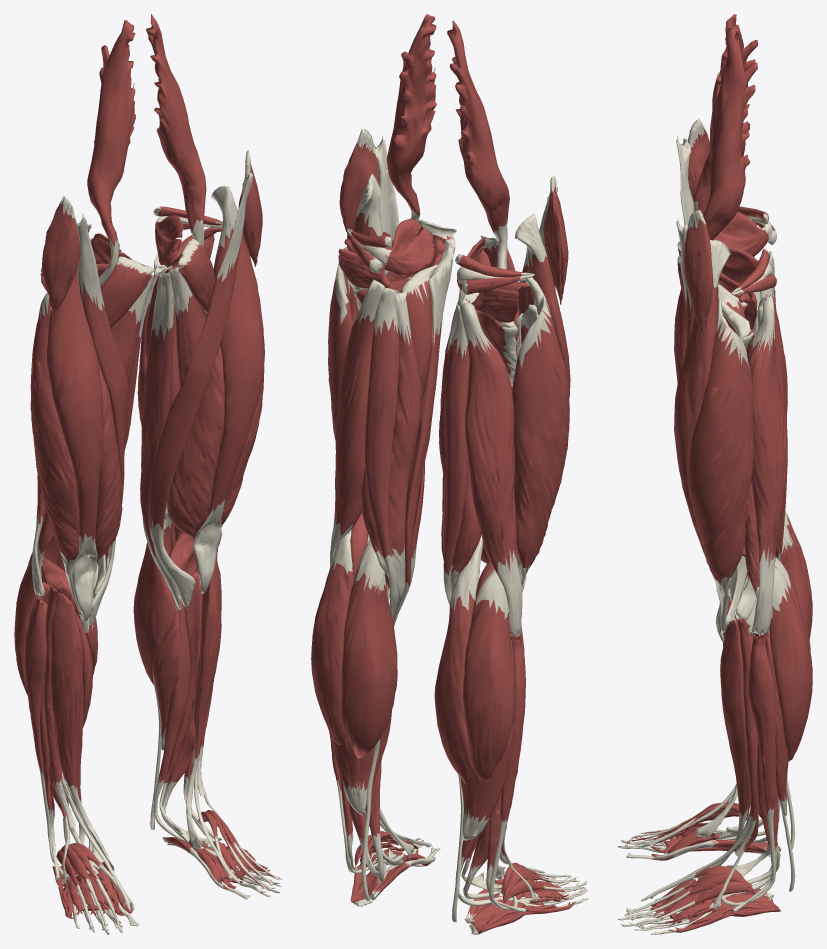
Rendered from muscular-lower-limb-balanced.glb.
3 renders of one model, left to right at view 1: azimuth 30°, elevation 25°; view 2: azimuth 150°, elevation 25°; view 3: azimuth 270°, elevation 25°, orthographic. The views are drawn at different scales.
Visible parts, largest first — view 1: za.rectus-femoris-muscle-r, za.rectus-femoris-muscle-l, za.sartorius-muscle-l, za.vastus-lateralis-muscle-r, za.psoas-major-r, za.vastus-medialis-muscle-l, za.gracilis-muscle-l, za.tibialis-anterior-muscle-r, za.psoas-major-l, za.sartorius-muscle-r, za.medial-head-of-gastrocnemius-l, za.tibialis-anterior-muscle-l (+31 smaller); view 2: za.vastus-lateralis-muscle-r, za.long-head-of-biceps-femoris-r, za.medial-head-of-gastrocnemius-l, za.lateral-head-of-gastrocnemius-r, za.semitendinosus-muscle-l, za.long-head-of-biceps-femoris-l, za.semimembranosus-muscle-l, za.psoas-major-l, za.psoas-major-r, za.medial-head-of-gastrocnemius-r, za.lateral-head-of-gastrocnemius-l, za.semitendinosus-muscle-r (+30 smaller); view 3: za.vastus-lateralis-muscle-l, za.long-head-of-biceps-femoris-l, za.psoas-major-l, za.lateral-head-of-gastrocnemius-l, za.rectus-femoris-muscle-l, za.fibularis-longus-muscle-l, za.tibialis-anterior-muscle-l, za.tensor-fasciae-latae-l, za.extensor-digitorum-longus-l, za.extensor-digitorum-brevis-l, za.psoas-major-r, za.obturator-internus-r (+25 smaller).
Part boxes in pixels (x1,y1,x2,y2): za.rectus-femoris-muscle-r: (46, 266, 103, 622); za.rectus-femoris-muscle-l: (193, 185, 264, 593); za.sartorius-muscle-l: (149, 172, 252, 608); za.vastus-lateralis-muscle-r: (30, 293, 80, 611); za.psoas-major-r: (87, 20, 135, 287); za.vastus-medialis-muscle-l: (167, 346, 224, 570); za.gracilis-muscle-l: (140, 268, 182, 610); za.tibialis-anterior-muscle-r: (50, 593, 114, 870); za.psoas-major-l: (146, 14, 206, 247); za.sartorius-muscle-r: (74, 213, 128, 631); za.medial-head-of-gastrocnemius-l: (133, 514, 175, 684); za.tibialis-anterior-muscle-l: (186, 557, 221, 849); za.vastus-lateralis-muscle-r: (512, 277, 569, 586); za.long-head-of-biceps-femoris-r: (459, 302, 522, 636); za.medial-head-of-gastrocnemius-l: (341, 539, 397, 758); za.lateral-head-of-gastrocnemius-r: (463, 569, 514, 780); za.semitendinosus-muscle-l: (365, 288, 399, 617); za.long-head-of-biceps-femoris-l: (330, 279, 385, 566); za.semimembranosus-muscle-l: (361, 290, 421, 602); za.psoas-major-l: (355, 14, 436, 290); za.psoas-major-r: (447, 20, 516, 327); za.medial-head-of-gastrocnemius-r: (434, 535, 483, 784); za.lateral-head-of-gastrocnemius-l: (311, 530, 354, 744); za.semitendinosus-muscle-r: (443, 305, 469, 605); za.vastus-lateralis-muscle-l: (688, 295, 753, 632); za.long-head-of-biceps-femoris-l: (746, 294, 787, 636); za.psoas-major-l: (703, 26, 757, 338); za.lateral-head-of-gastrocnemius-l: (769, 566, 812, 761); za.rectus-femoris-muscle-l: (674, 240, 731, 641); za.fibularis-longus-muscle-l: (708, 629, 776, 906); za.tibialis-anterior-muscle-l: (696, 620, 750, 879); za.tensor-fasciae-latae-l: (684, 210, 713, 335); za.extensor-digitorum-longus-l: (734, 615, 759, 856); za.extensor-digitorum-brevis-l: (626, 869, 754, 926); za.psoas-major-r: (693, 14, 757, 214); za.obturator-internus-r: (713, 212, 772, 256).
Size of the model in its own units: 0.3178 by 1.15 by 0.2349.
